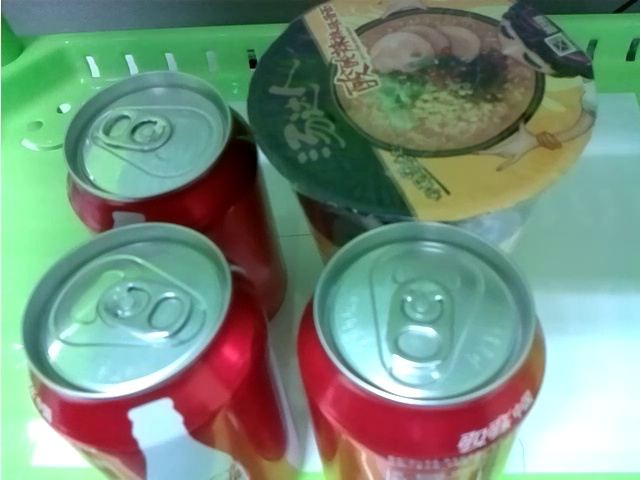cocacola: (17, 222, 296, 480), (298, 222, 549, 480), (62, 71, 290, 318)
noodles: (251, 1, 597, 266)
